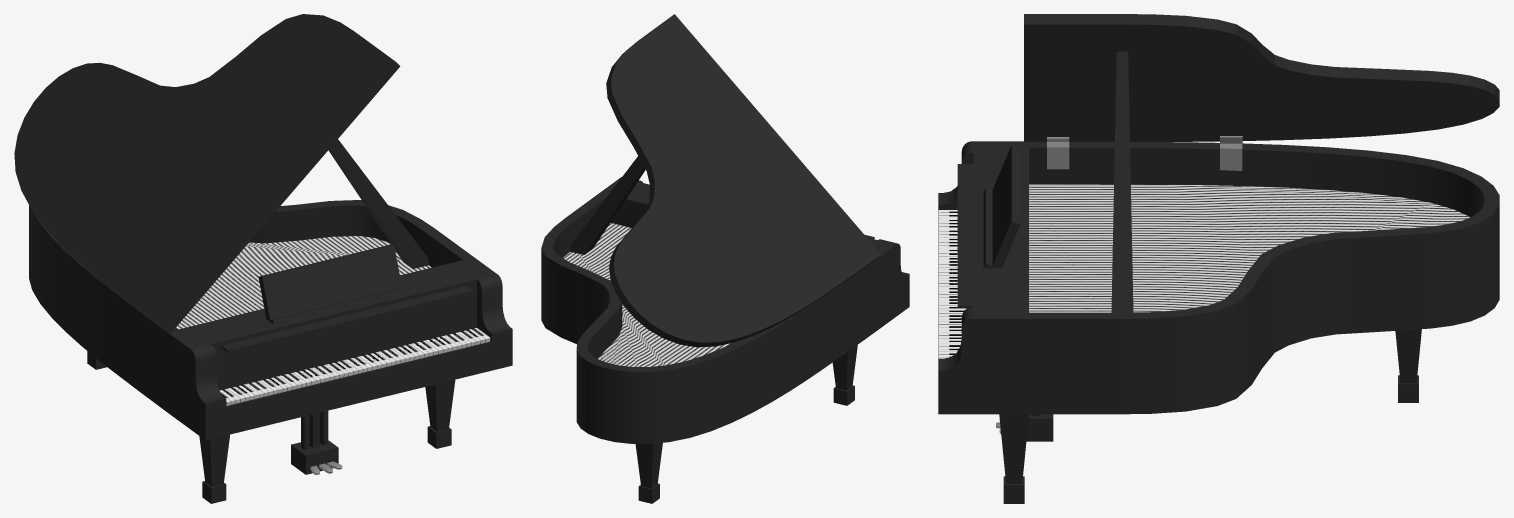
Rendered from PIANOFORTE.fbx.
The picture shows the model from 3 angles, left to right: view 1: azimuth 30°, elevation 25°; view 2: azimuth 150°, elevation 25°; view 3: azimuth 270°, elevation 25°; orthographic projection. The views are drawn at different scales.
Parts seen in each view (by area): view 1: coperchio, lato tasti, Plane.003, pidi piano, Cube, Cube.001; view 2: coperchio, lato tasti, pidi piano, Cube; view 3: lato tasti, coperchio, Cube, pidi piano, Plane.003, Plane.002, Cube.001.
Part boxes in pixels (x1=…): coperchio: x1=14, y1=14, x2=400, y2=333; lato tasti: x1=29, y1=200, x2=512, y2=440; Plane.003: x1=258, y1=244, x2=405, y2=324; pidi piano: x1=87, y1=351, x2=455, y2=503; Cube: x1=328, y1=139, x2=428, y2=268; Cube.001: x1=291, y1=410, x2=338, y2=474; coperchio: x1=606, y1=14, x2=881, y2=347; lato tasti: x1=541, y1=177, x2=909, y2=443; pidi piano: x1=635, y1=345, x2=857, y2=503; Cube: x1=570, y1=156, x2=645, y2=254; lato tasti: x1=938, y1=141, x2=1499, y2=414; coperchio: x1=1024, y1=14, x2=1499, y2=141; Cube: x1=1111, y1=51, x2=1133, y2=312; pidi piano: x1=999, y1=329, x2=1421, y2=503; Plane.003: x1=983, y1=145, x2=1020, y2=268; Plane.002: x1=1047, y1=136, x2=1242, y2=170; Cube.001: x1=1026, y1=414, x2=1053, y2=441.
Bounding box in the file's own units: 473 × 565 × 622.
Materials: 4 (2 with a texture image).
